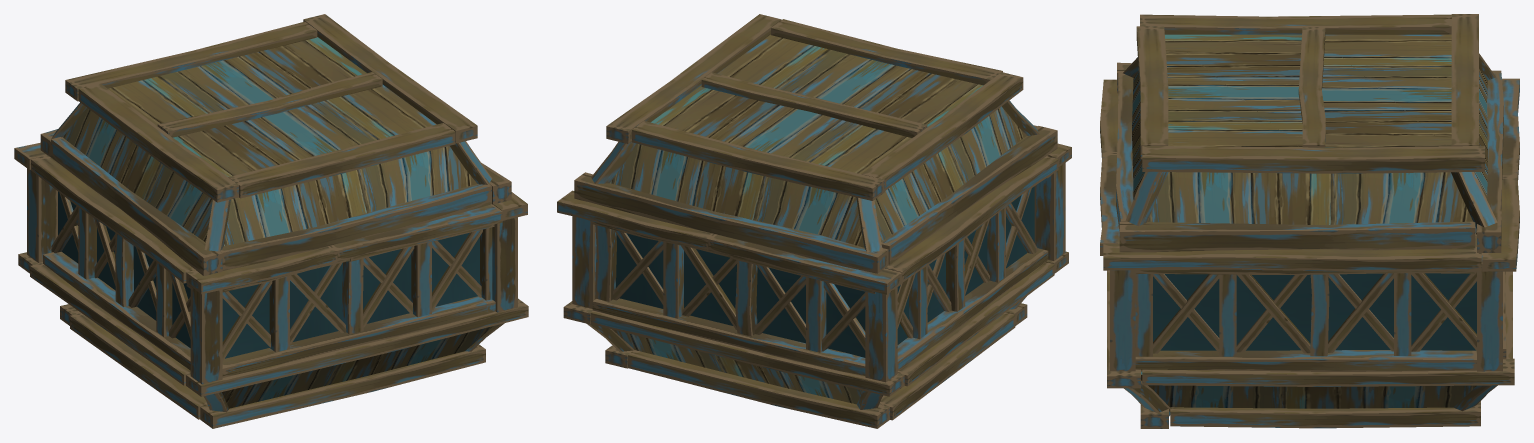
The model's file is A_Tower_D.FBX.
3 renders of one model, left to right at view 1: azimuth 30°, elevation 25°; view 2: azimuth 150°, elevation 25°; view 3: azimuth 270°, elevation 25°, orthographic. The views are drawn at different scales.
Visible parts, largest first — view 1: A_Tower_D; view 2: A_Tower_D; view 3: A_Tower_D.
Part boxes in pixels (x1=…): A_Tower_D: x1=14, y1=14, x2=528, y2=428; A_Tower_D: x1=557, y1=14, x2=1071, y2=428; A_Tower_D: x1=1100, y1=14, x2=1519, y2=428.
Size of the model in its own units: 434 by 299 by 423.
